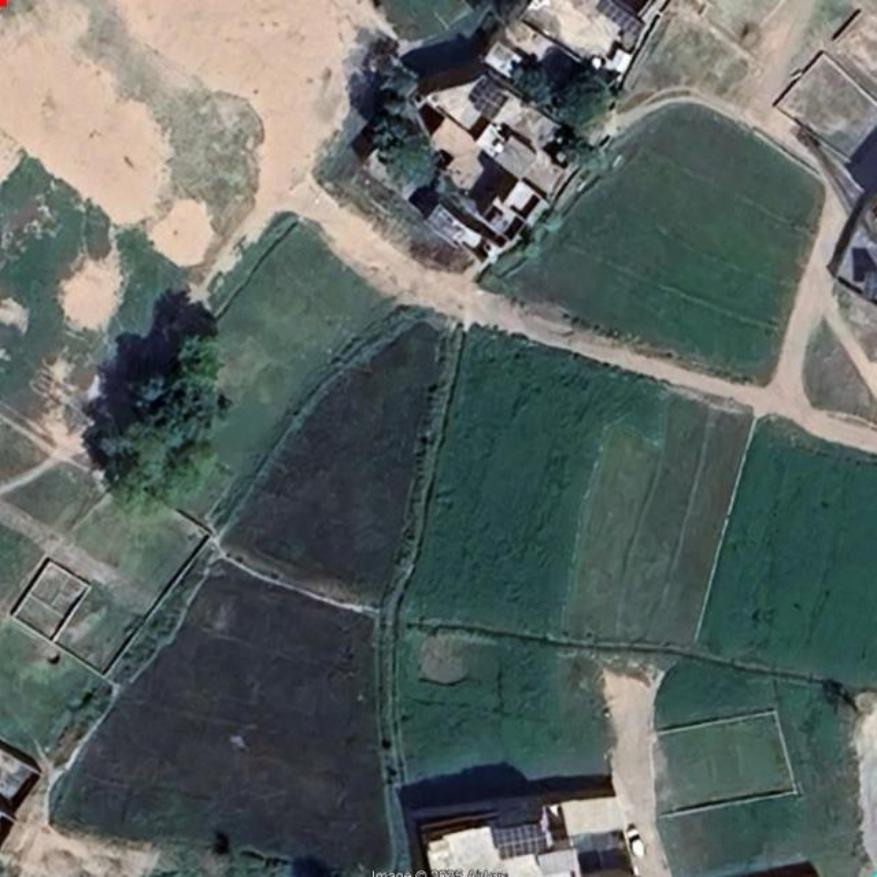Solarpanel: (495, 824, 548, 858), (595, 0, 645, 35), (865, 272, 876, 299)
